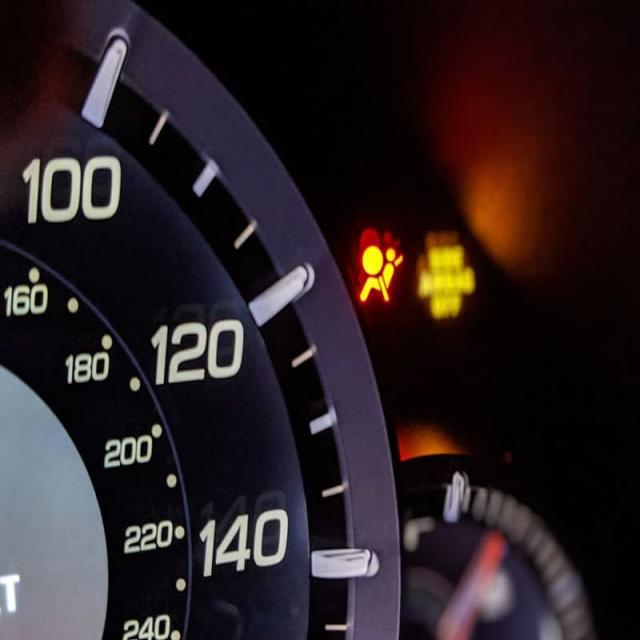SRS-Airbag: (359, 246, 404, 302)
